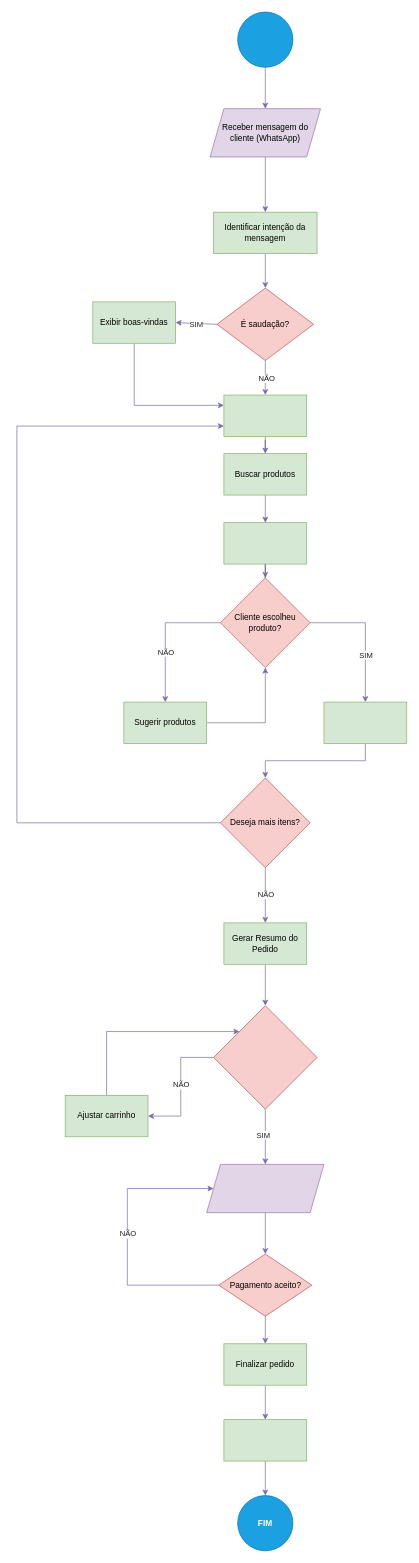
This 419x1563 diagram has some shape labels left out. Each missing label, with the centre of its shape:
"Adicionar ao Carrinho" goes at pixel 365 722.
"Confirmar pedido" goes at pixel 265 1057.
"Escolher a forma de pagamento" goes at pixel 265 1188.
"INÍCIO" goes at pixel 265 39.
"Mostrar categorias" goes at pixel 265 415.
"Mostrar opções" goes at pixel 265 543.
"Solicitar avaliação" goes at pixel 265 1440.
